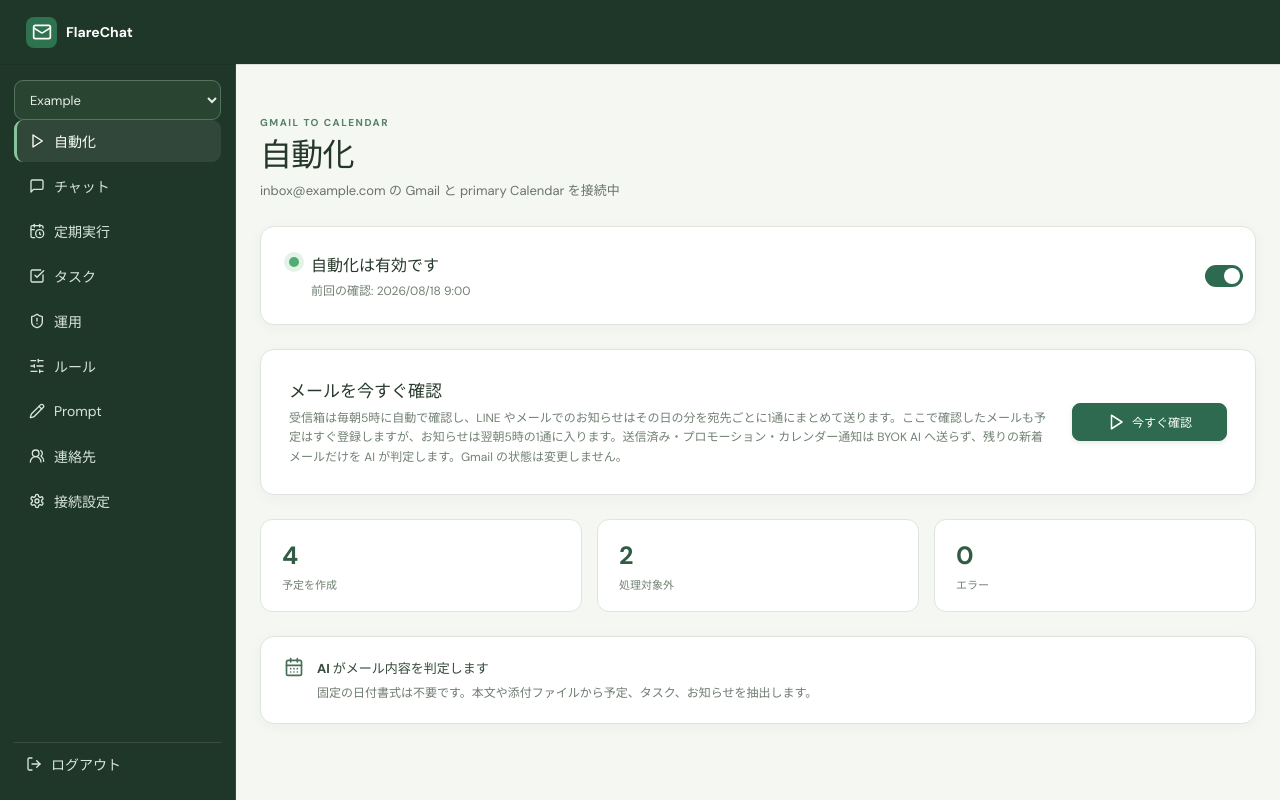
Test: Automation screen › reports a running mailbox scan on its own control, then what the run did
The width and height of the screenshot is (1280, 800).
Click the button "今すぐ確認". click: (1150, 422)
box: [1072,403,1227,441]
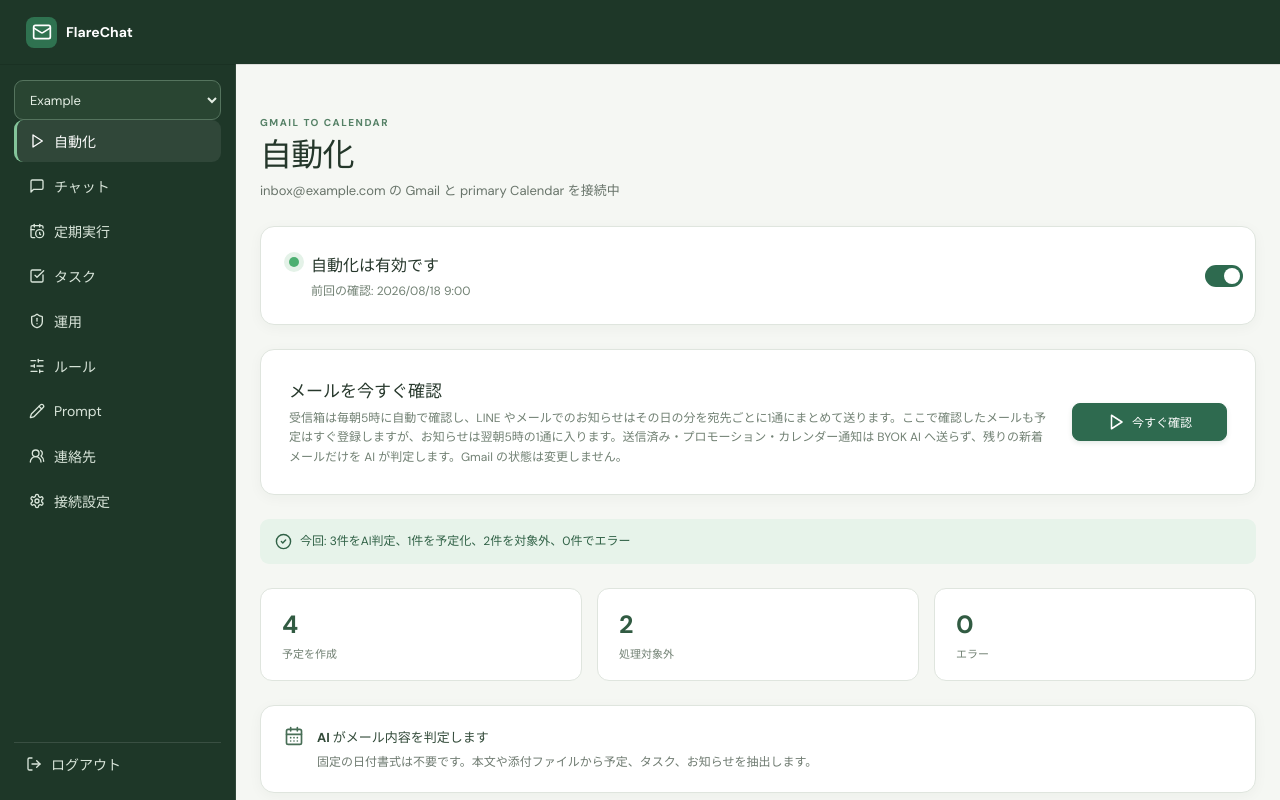
Expected: the checkbox named "自動化を切り替える" is enabled, [1205,265,1243,287]
Expected: the text "今回: 3件をAI判定、1件を予定化、2件を対象外、0件でエラー" is shown, [260,519,1256,564]
